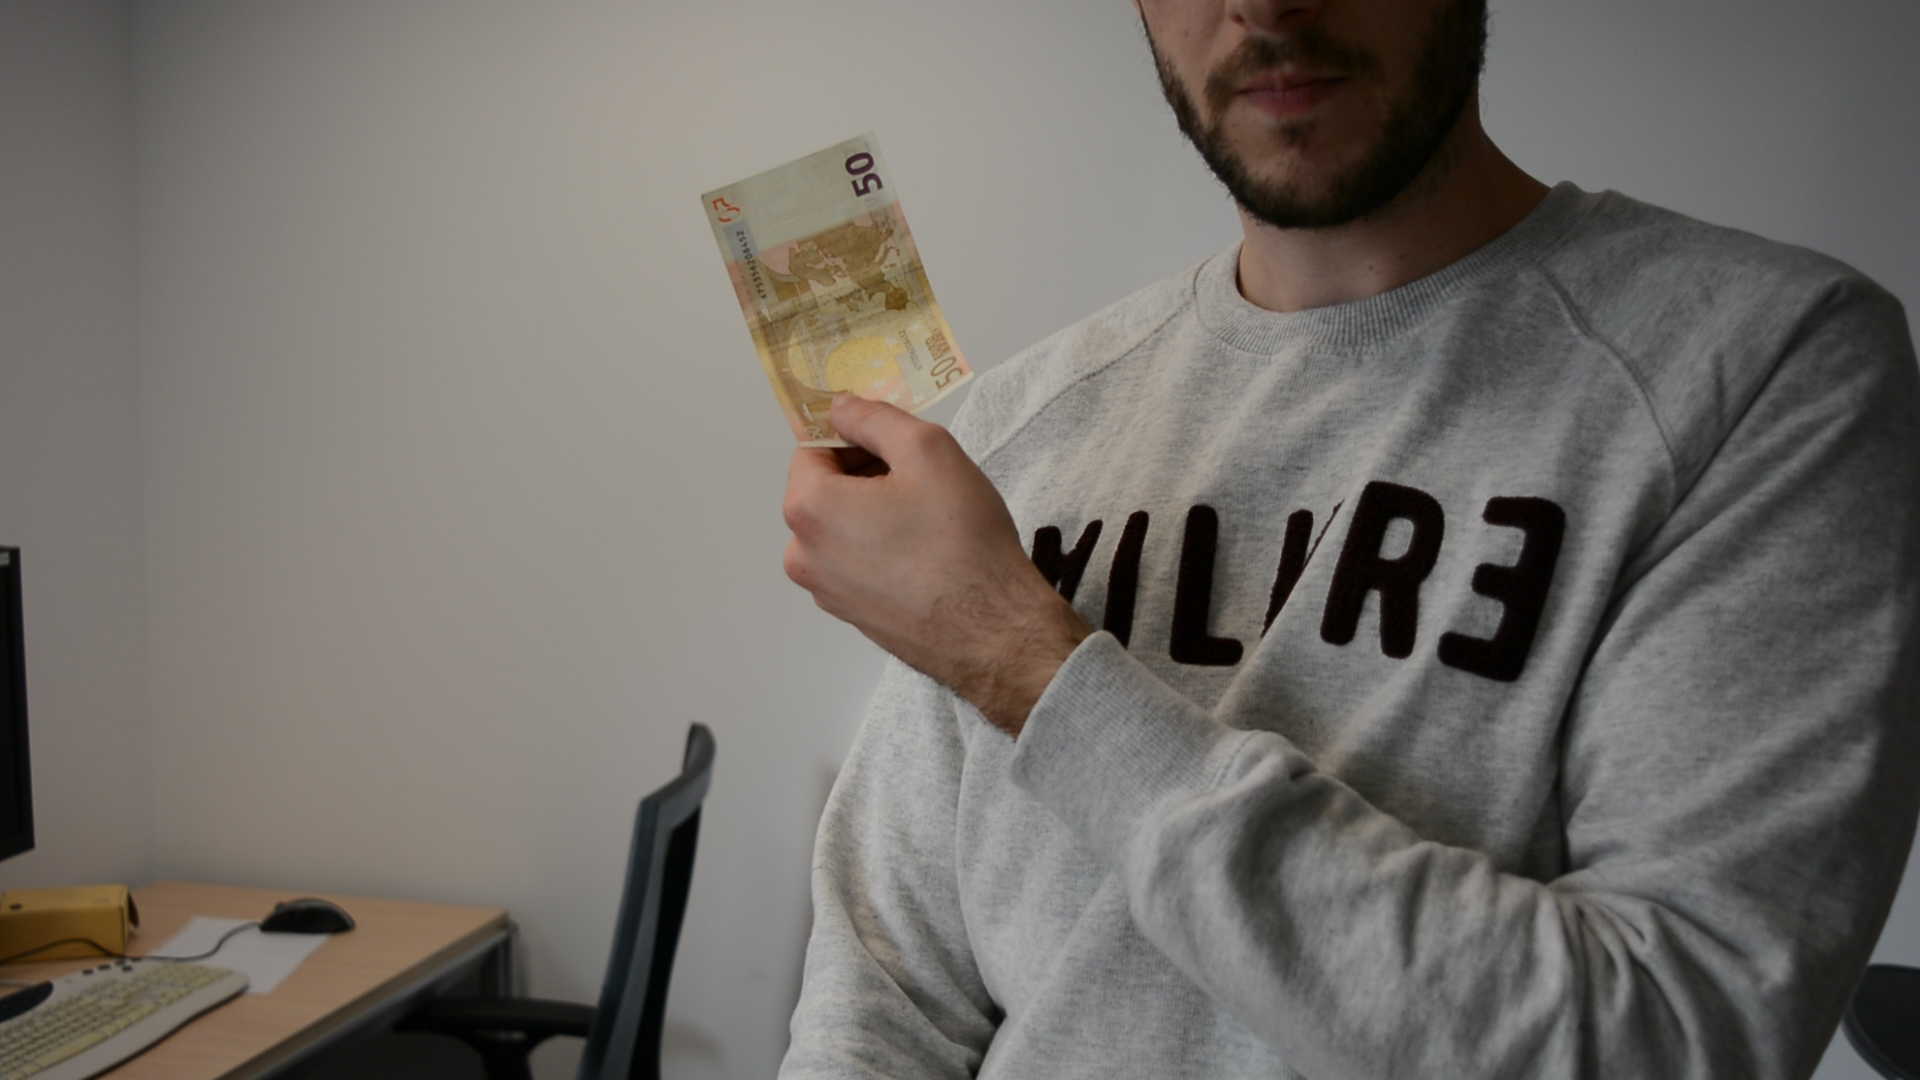billete: (700, 127, 978, 451)
